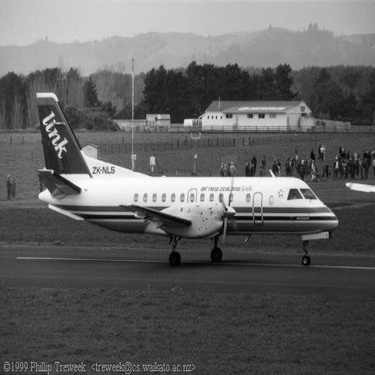airplane: (2, 83, 339, 263)
